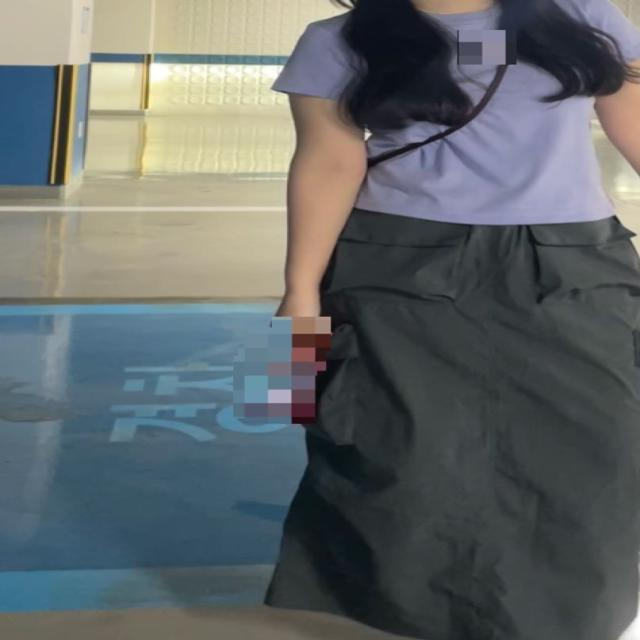shortsleeve: (271, 0, 640, 225)
skirt: (261, 211, 640, 639)
